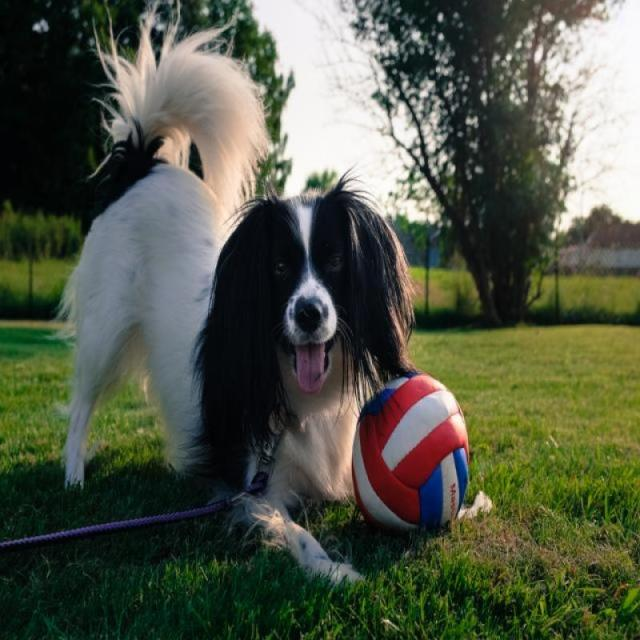volleyball: (351, 366, 474, 528)
